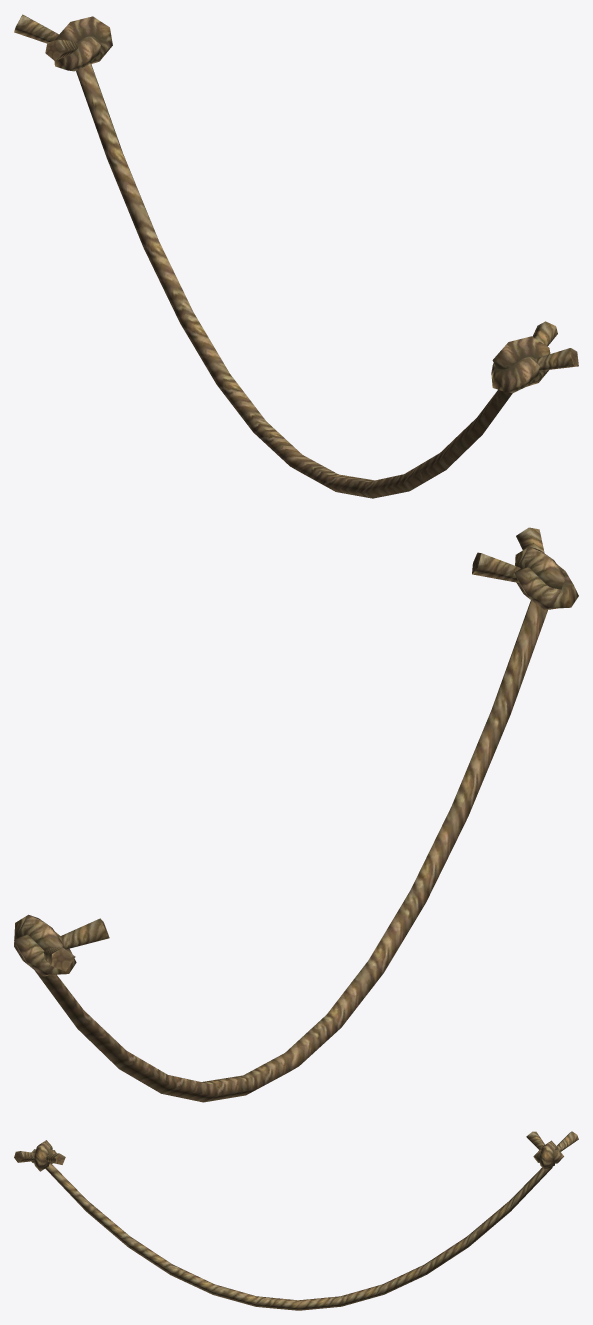
3 renders of one model, top to bottom at view 1: azimuth 30°, elevation 25°; view 2: azimuth 150°, elevation 25°; view 3: azimuth 270°, elevation 25°, orthographic. The views are drawn at different scales.
Bounding box in the file's own units: 0.703 × 2.03 × 6.12.
1 material, 1 textured.
